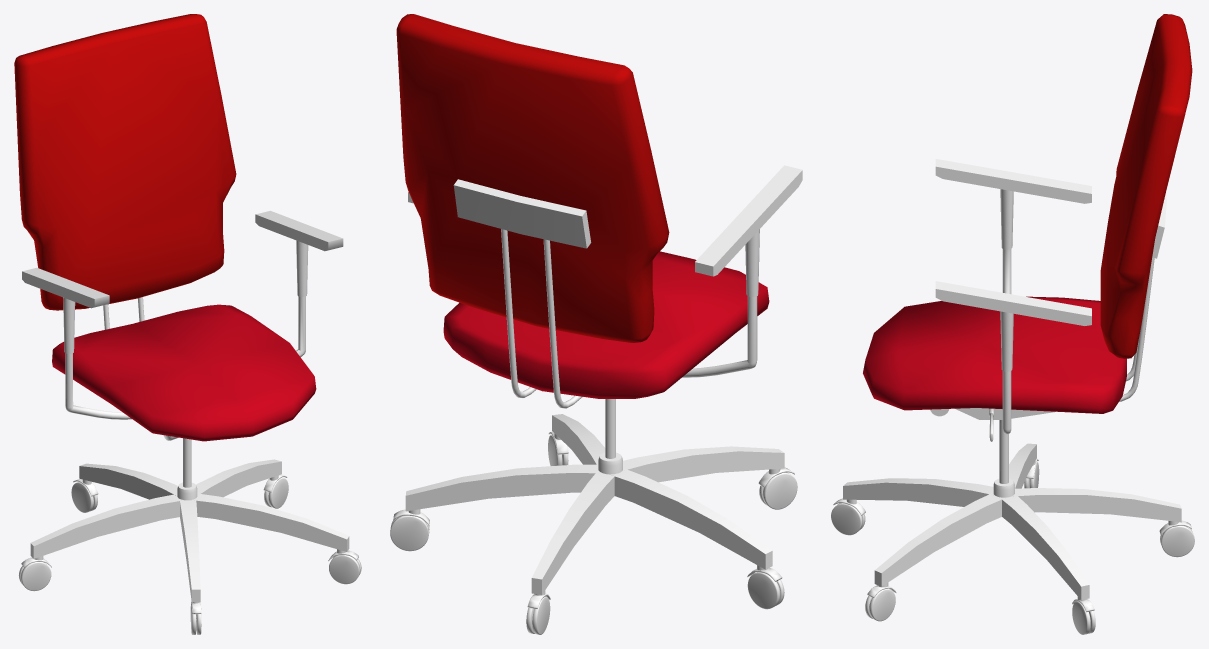
File: IKEA-Klappe_Chair-Chair-3D.FBX
3 renders of one model, left to right at view 1: azimuth 30°, elevation 25°; view 2: azimuth 150°, elevation 25°; view 3: azimuth 270°, elevation 25°, orthographic. The views are drawn at different scales.
Parts seen in each view (by area): view 1: Box02; view 2: Box02; view 3: Box02.
Part boxes in pixels (box(x1,y1,x2,y2)): Box02: box(14, 14, 361, 634); Box02: box(390, 14, 802, 634); Box02: box(831, 14, 1194, 634).
Bounding box in the file's own units: 0.5234 × 0.8039 × 0.5234.
